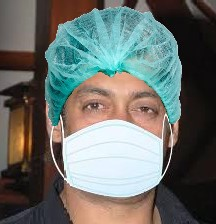with_mask_and_cap: (45, 7, 178, 198)
